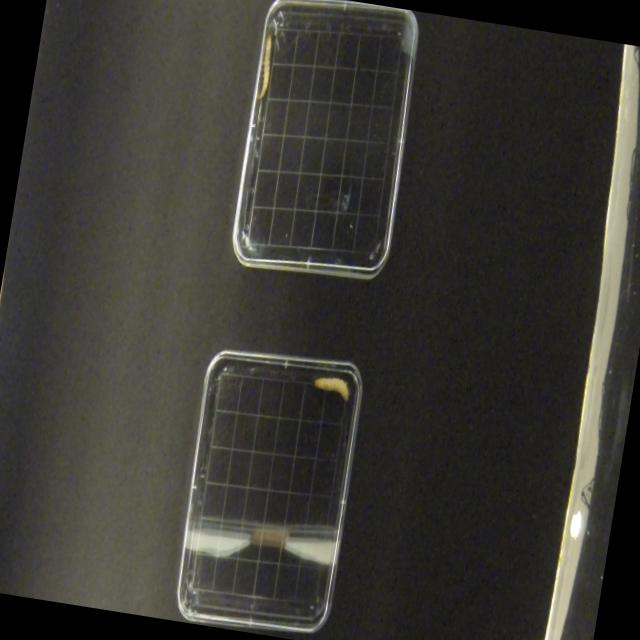larva: (257, 32, 277, 100), (313, 374, 352, 402)
